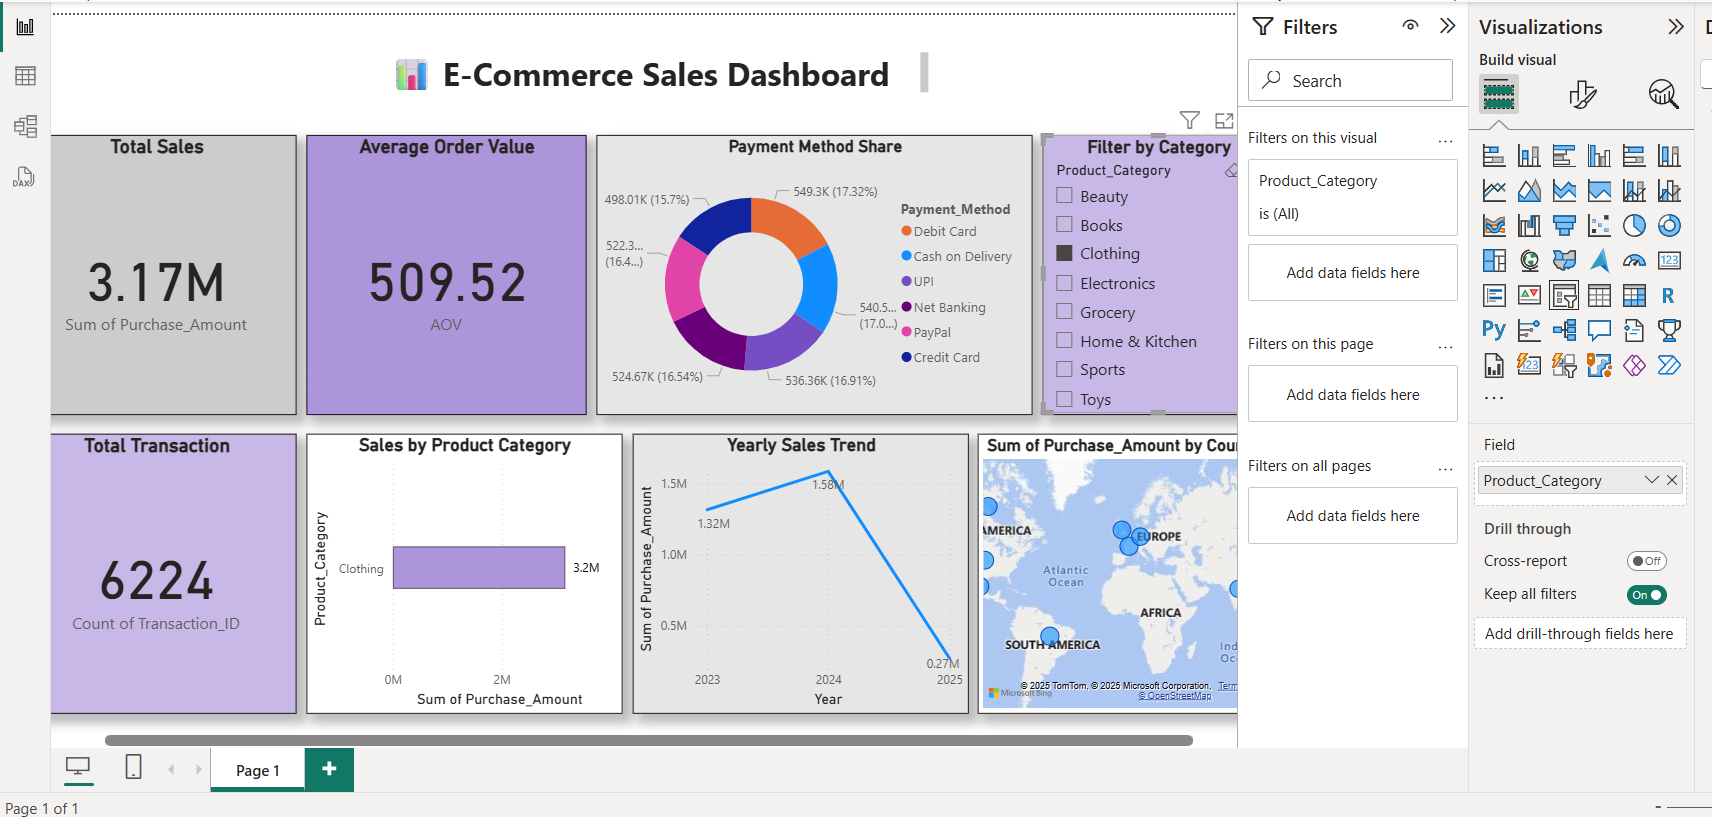

The dashboard page shown, as its layout file describes it:
{"tool":"powerbi","page":{"name":"Page 1","canvas":[1280,720],"ordinal":0},"visuals":[{"type":"card","title":"Total Sales","fields":{"Values":["Sum(ecommerce_transactions.Purchase_Amount)"]},"box":[12.3,119.4,279.9,279.9],"z":0},{"type":"card","title":"Total Transaction","fields":{"Values":["CountNonNull(ecommerce_transactions.Transaction_ID)"]},"box":[12.3,418.5,279.9,279.9],"z":1000},{"type":"card","title":"Average Order Value","fields":{"Values":["ecommerce_transactions.AOV"]},"box":[301.9,119.4,279.9,279.9],"z":2000},{"type":"clusteredBarChart","title":"Sales by Product Category","fields":{"Category":["ecommerce_transactions.Product_Category"],"Y":["Sum(ecommerce_transactions.Purchase_Amount)"]},"box":[301.9,418.5,315.6,279.9],"z":3000},{"type":"donutChart","title":"Payment Method Share","fields":{"Category":["ecommerce_transactions.Payment_Method"],"Y":["Sum(ecommerce_transactions.Purchase_Amount)"]},"box":[592.8,119.4,436.4,279.9],"z":4000},{"type":"slicer","title":"Filter by Category","fields":{"Values":["ecommerce_transactions.Product_Category"]},"box":[1038.8,119.4,231.9,279.9],"z":6000},{"type":"lineChart","title":"Yearly Sales Trend","fields":{"Category":["ecommerce_transactions.Transaction_Date.Variation.Date Hierarchy.Year","ecommerce_transactions.Transaction_Date.Variation.Date Hierarchy.Quarter","ecommerce_transactions.Transaction_Date.Variation.Date Hierarchy.Month","ecommerce_transactions.Transaction_Date.Variation.Date Hierarchy.Day"],"Y":["Sum(ecommerce_transactions.Purchase_Amount)"]},"box":[628.5,418.5,336.2,279.9],"z":6001},{"type":"map","fields":{"Category":["ecommerce_transactions.Country"],"Size":["Sum(ecommerce_transactions.Purchase_Amount)"]},"box":[974.3,418.5,296.4,279.9],"z":6002},{"type":"textbox","box":[349.9,32.9,579.1,59],"z":6003}]}

Visuals, with their boxes on the page's 1280x720 design canvas (x1, y1, x2, y2). These are canvas units, not pixel positions in the 1712x817 screenshot, which may show the page scaled, cropped or inside an application window:
"Total Sales" card: (left=12, top=119, right=292, bottom=399)
"Total Transaction" card: (left=12, top=418, right=292, bottom=698)
"Average Order Value" card: (left=302, top=119, right=582, bottom=399)
"Sales by Product Category" clusteredBarChart: (left=302, top=418, right=618, bottom=698)
"Payment Method Share" donutChart: (left=593, top=119, right=1029, bottom=399)
"Filter by Category" slicer: (left=1039, top=119, right=1271, bottom=399)
"Yearly Sales Trend" lineChart: (left=628, top=418, right=965, bottom=698)
map - ecommerce_transactions.Country x Sum(ecommerce_transactions.Purchase_Amount): (left=974, top=418, right=1271, bottom=698)
textbox: (left=350, top=33, right=929, bottom=92)
